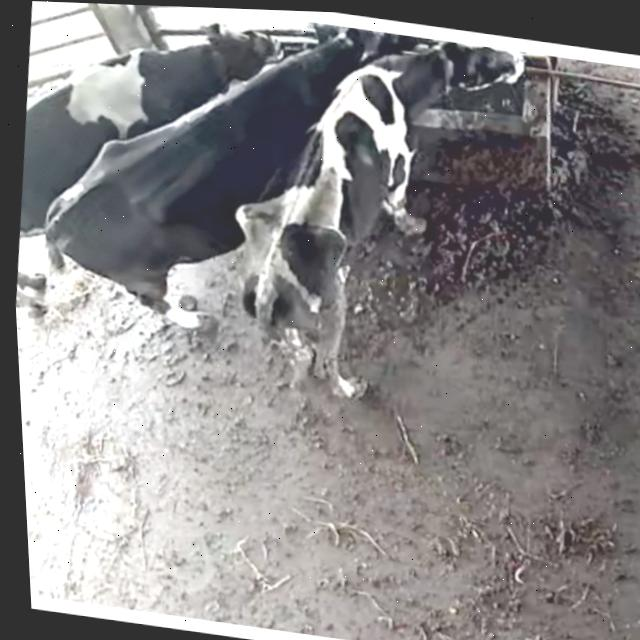drink: (252, 14, 410, 121)
